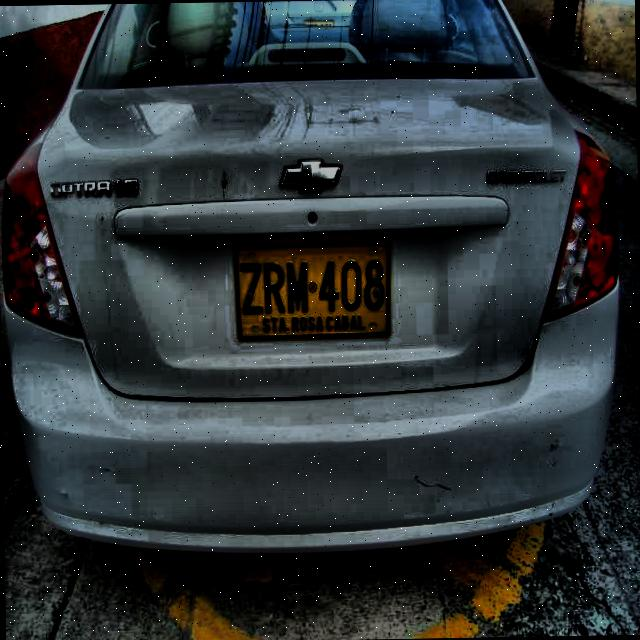0: (340, 259, 362, 312)
4: (316, 260, 341, 312)
8: (362, 258, 385, 312)
M: (286, 262, 309, 314)
R: (263, 262, 286, 316)
Z: (240, 262, 264, 314)
